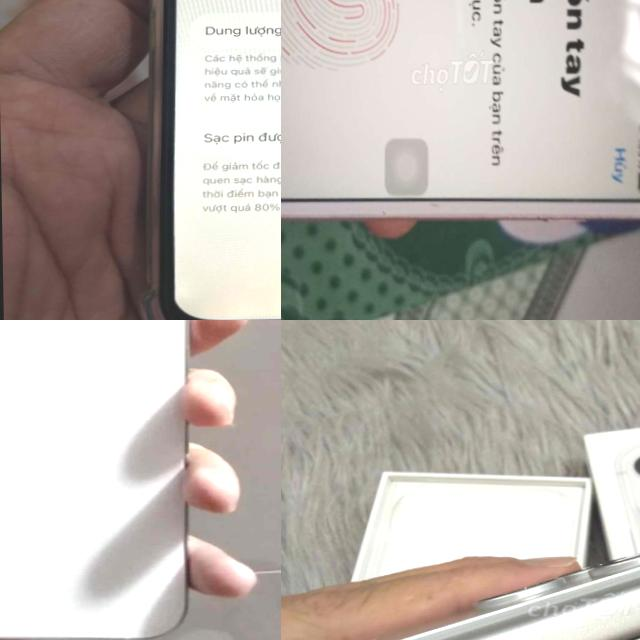gen_12_13: (0, 320, 208, 640), (145, 0, 281, 320)
gen_17: (390, 553, 640, 640), (391, 553, 640, 640)
gen_6: (281, 0, 640, 240)
